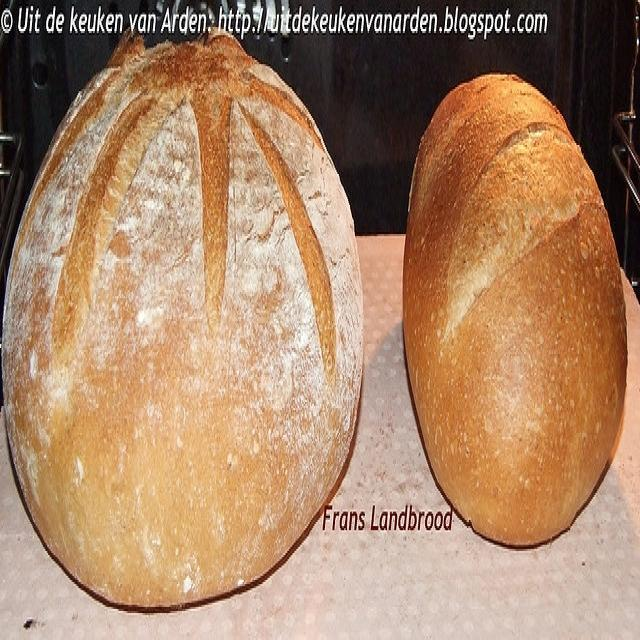面包点心: (4, 19, 622, 615)
